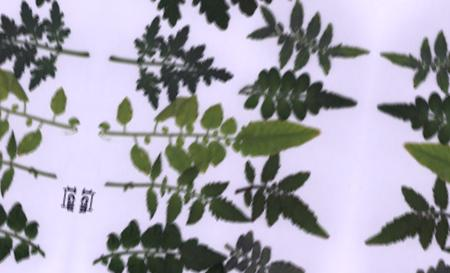Tomato leaf: (233, 110, 323, 169), (191, 95, 233, 140), (106, 88, 141, 131), (151, 92, 188, 132), (172, 94, 204, 133), (124, 139, 158, 175), (160, 145, 197, 175), (189, 139, 217, 174), (204, 136, 231, 170)
